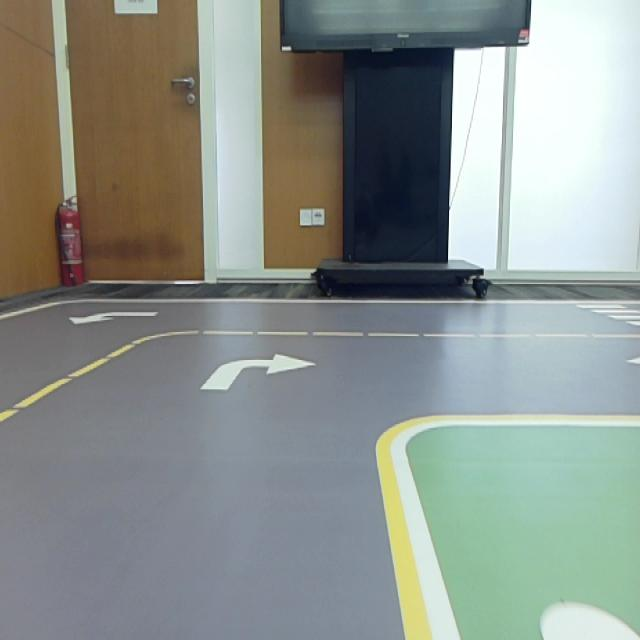left_lane: (0, 339, 149, 424)
right_lane: (374, 443, 435, 640), (0, 304, 50, 320)
